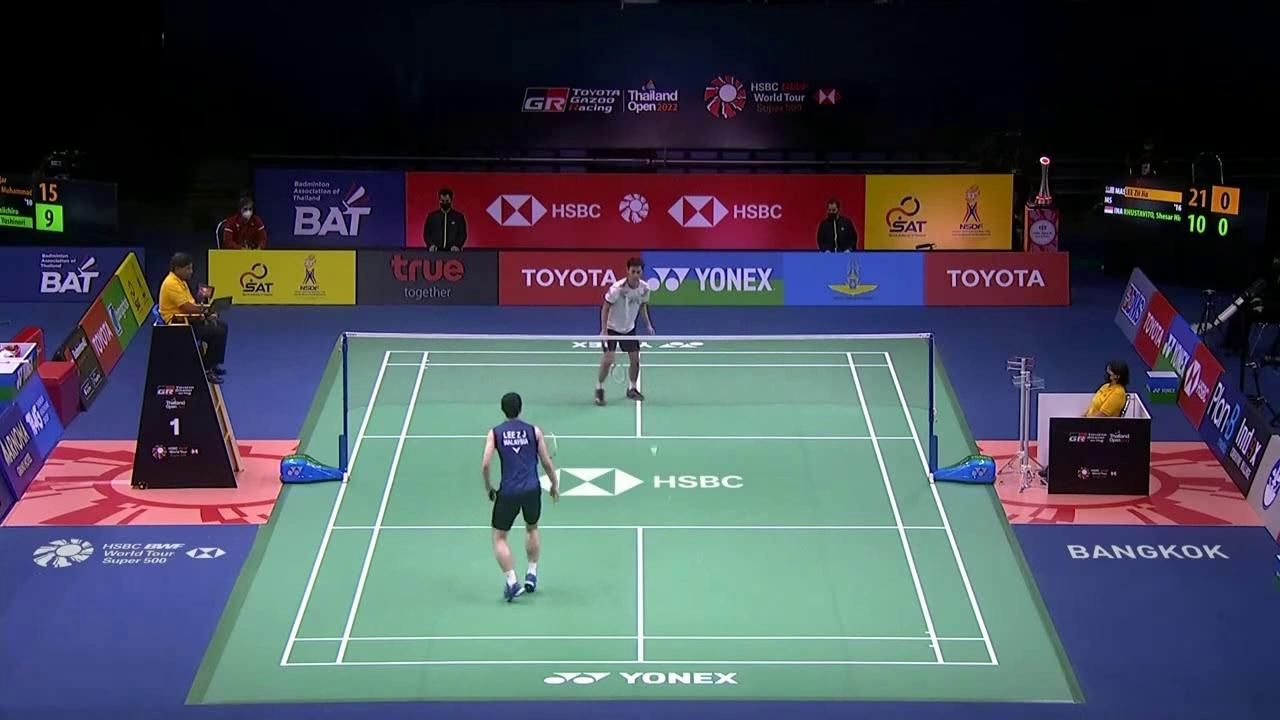racket: (535, 430, 560, 503), (600, 335, 626, 385)
shuttle: (649, 444, 659, 457)
